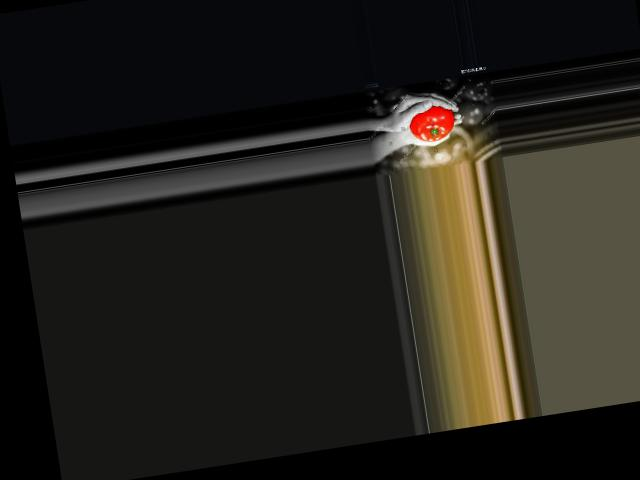tomato: (406, 103, 456, 144)
